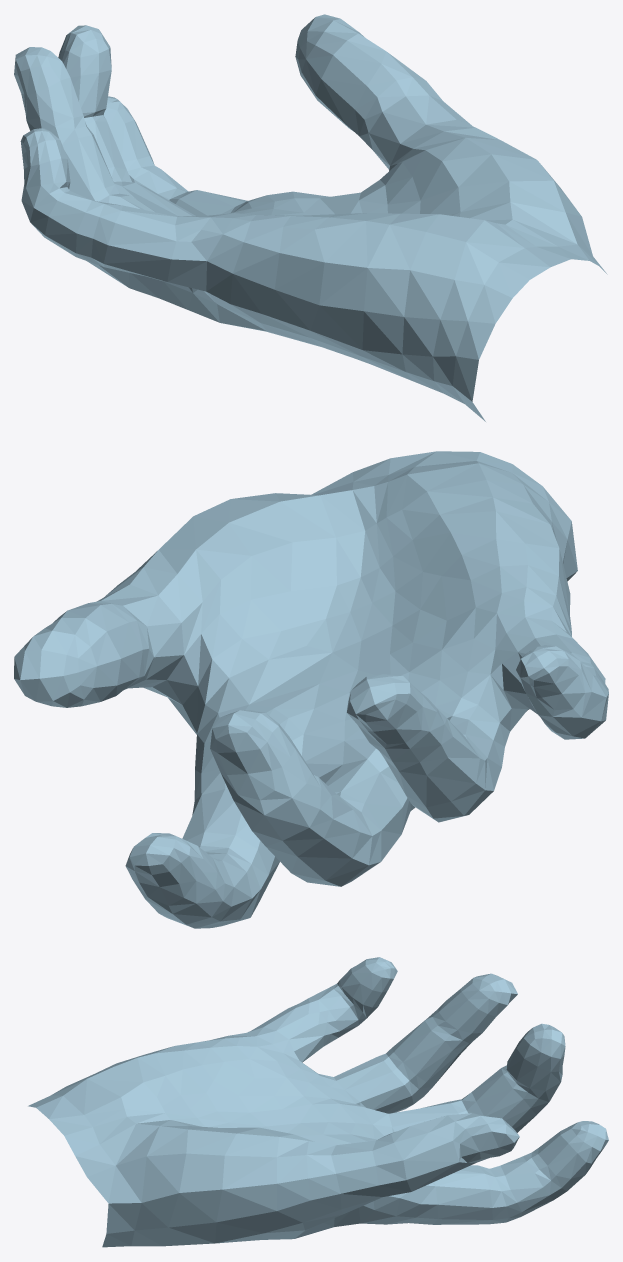
The model's file is frame_054.glb.
3 views of the same model, one above another, from view 1: azimuth 30°, elevation 25°; view 2: azimuth 150°, elevation 25°; view 3: azimuth 270°, elevation 25° (orthographic). The views are drawn at different scales.
Visible parts, largest first — view 1: world; view 2: world; view 3: world.
Part boxes in pixels (x1,y1,x2,y2): world: (14, 14, 607, 421); world: (14, 451, 608, 928); world: (28, 957, 608, 1247).
Bounding box in the file's own units: 0.1209 × 0.0614 × 0.1753.
